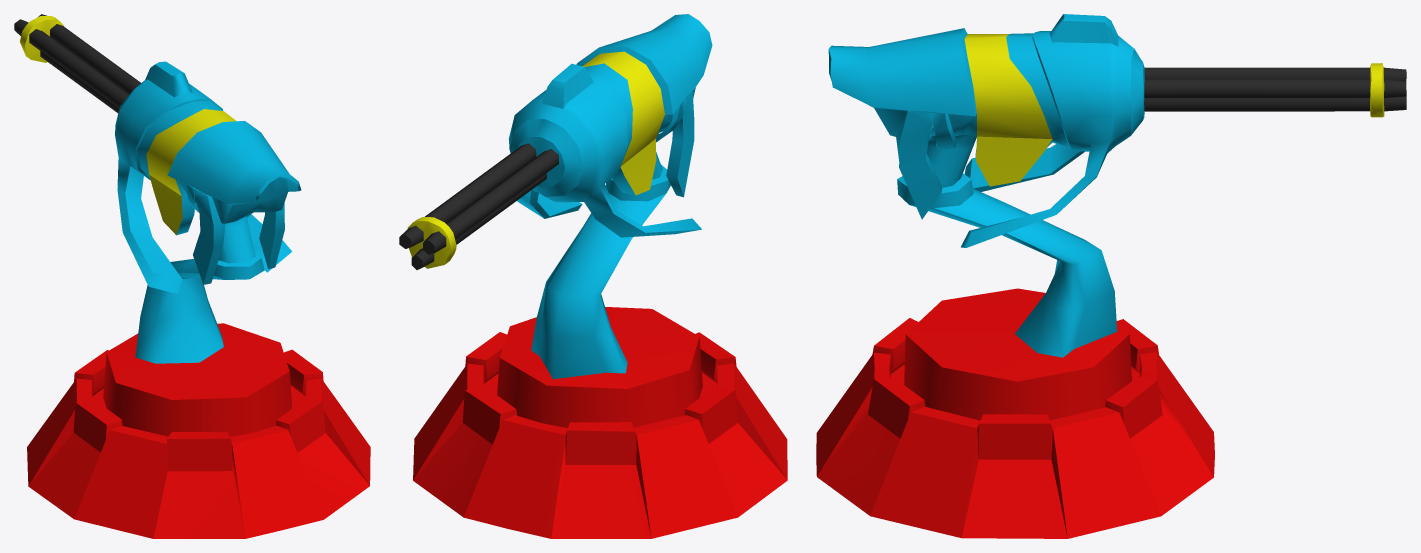
The model's file is turret_gun.fbx.
The picture shows the model from 3 angles, left to right: view 1: azimuth 30°, elevation 25°; view 2: azimuth 150°, elevation 25°; view 3: azimuth 270°, elevation 25°; orthographic projection. The views are drawn at different scales.
Parts seen in each view (by area): view 1: jj; view 2: jj; view 3: jj.
Part boxes in pixels (<box>): jj: <box>14,14,370,538</box>; jj: <box>399,14,787,538</box>; jj: <box>816,14,1406,538</box>.
Bounding box in the file's own units: 147 × 178 × 218.
